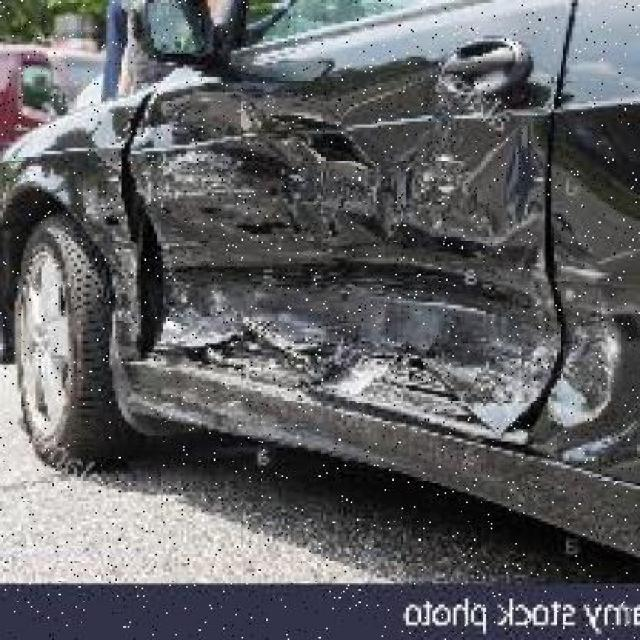car damage: (117, 92, 384, 387), (339, 79, 521, 245), (382, 271, 552, 436), (501, 209, 605, 304), (539, 327, 623, 432)
